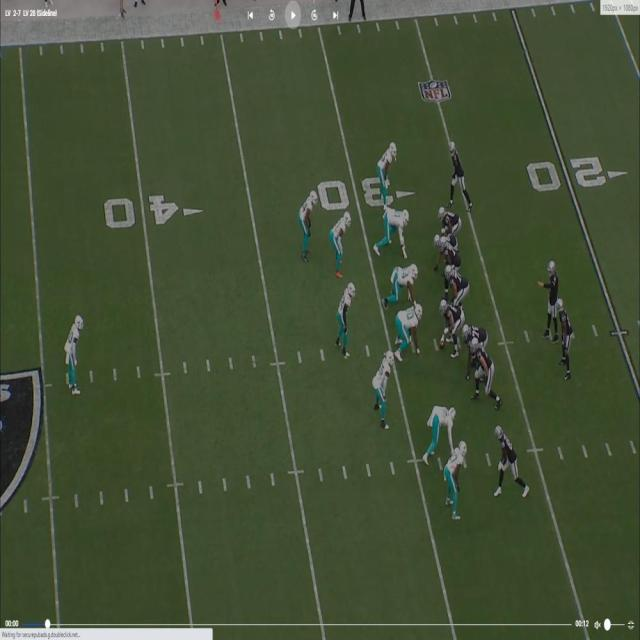center: (437, 296, 462, 348)
db: (448, 441, 469, 519), (62, 313, 82, 390), (300, 193, 314, 261), (378, 143, 395, 192)
lb: (375, 350, 391, 417), (331, 213, 349, 261), (343, 281, 358, 336)
qb: (544, 259, 556, 339)
skill: (496, 422, 524, 493), (451, 140, 469, 202), (556, 300, 570, 378), (436, 206, 461, 232)
